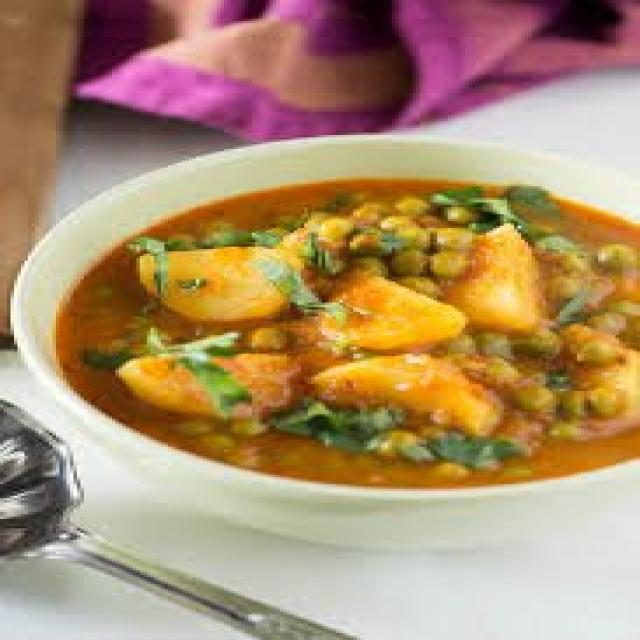Aloo Matar: (91, 182, 640, 474)
